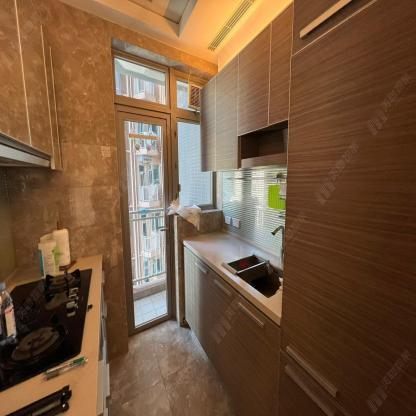Cupboard: (200, 1, 414, 413), (184, 247, 278, 415), (2, 0, 65, 169)
Exhaust Fan: (188, 83, 199, 110)
Sink: (226, 255, 285, 299)
Stove: (0, 270, 90, 393)
